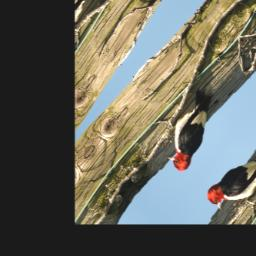Woodpecker: (149, 78, 233, 176)
